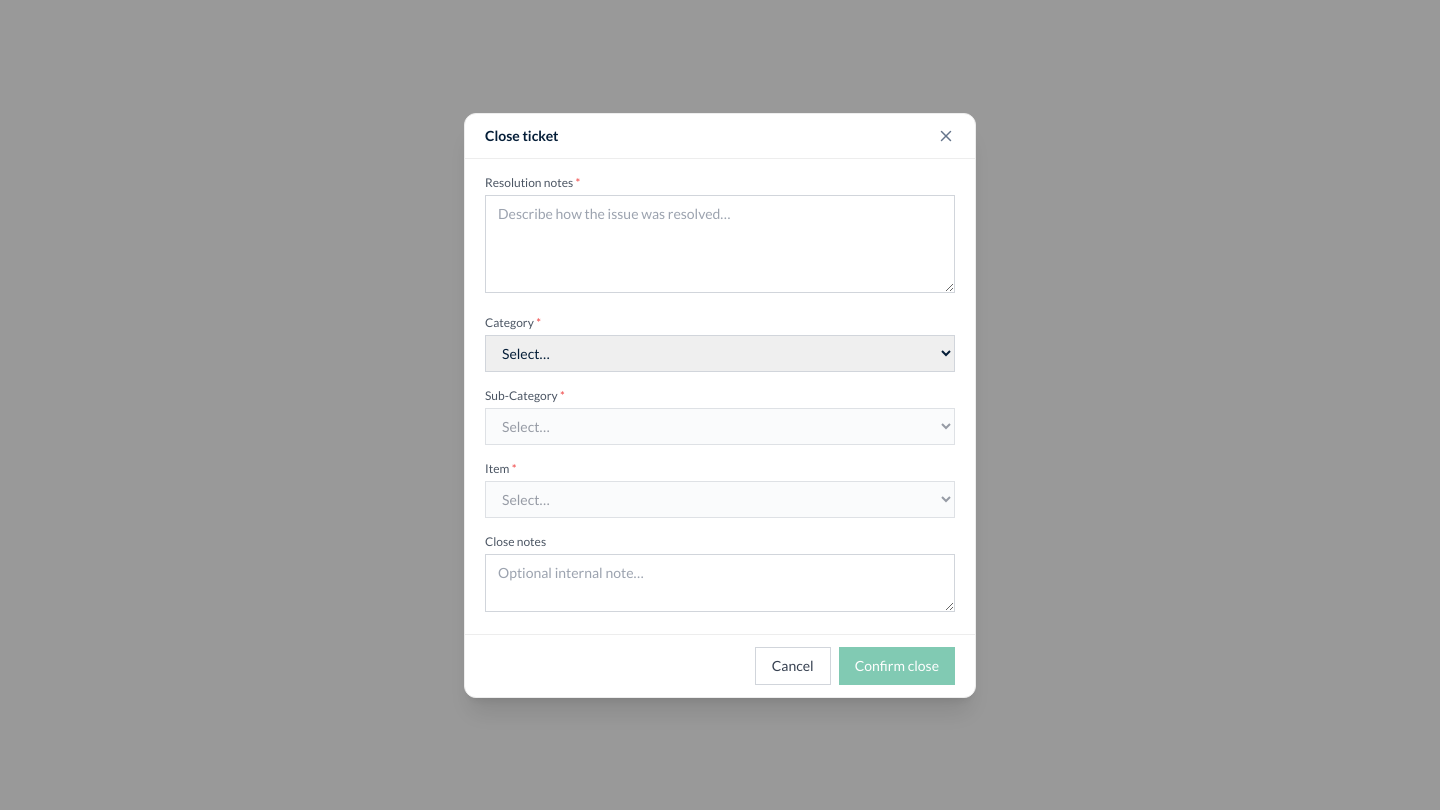
Scenario: CloseTicketModal › shows empty-items helper and keeps Confirm disabled when subcategory has no items
Select "Incident" in the dropdown labelled "Category *" at (720, 353), box [485,334,955,372]
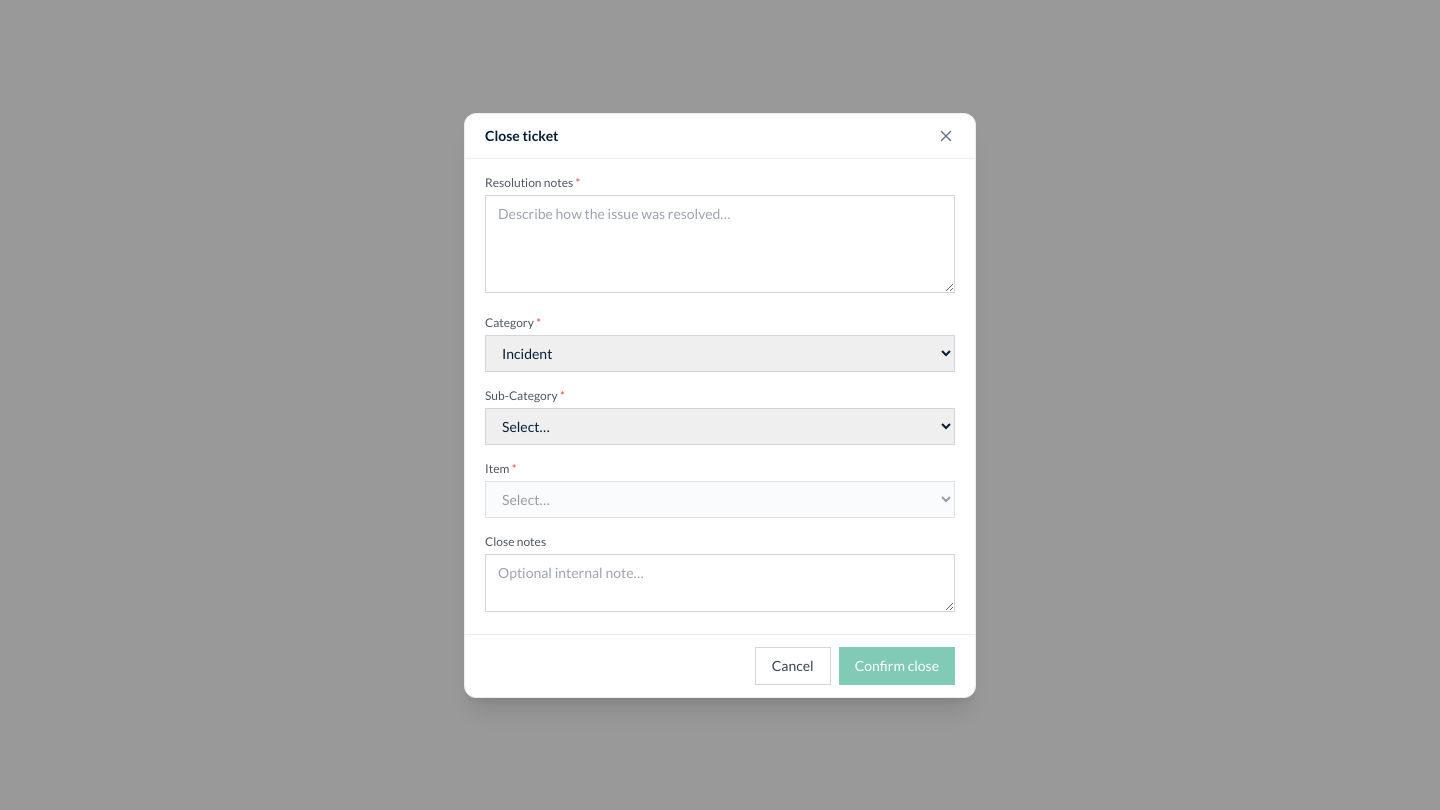
Select "Unconfigured Area" in the dropdown labelled "Sub-Category *" at (720, 426), box [485,408,955,444]
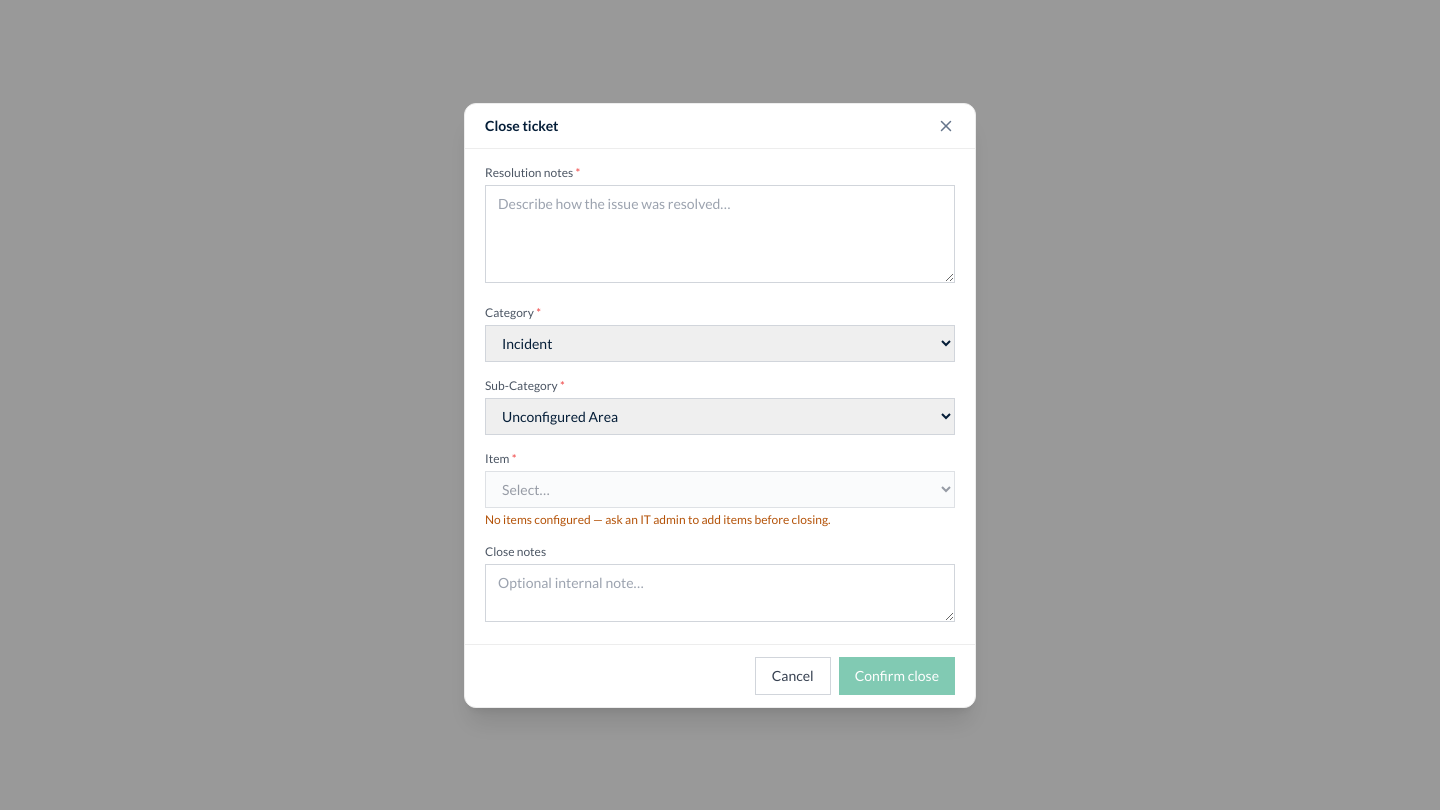
Check: the button "Confirm close" is disabled, box [839,656,955,694]
Check: the text "No items configured — ask an IT admin to add items before closing" is shown, box [485,512,831,526]
